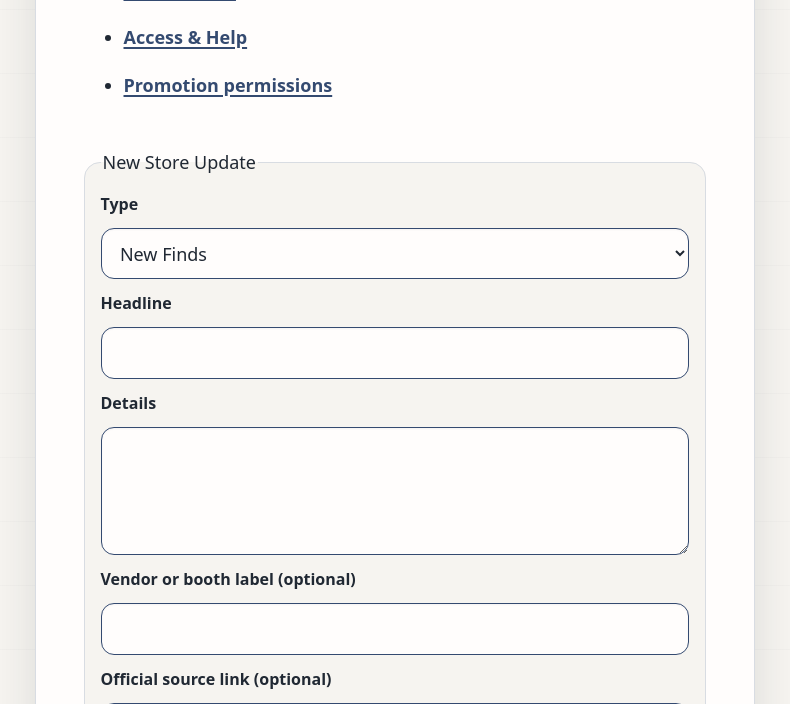
Test: provider-neutral Store Portal boundary › announces a successful text publish in the live region
(page scrolled)
Type "New finds this week" into the field labelled "Headline" at coordinates (394, 353), box [100,327,688,379]
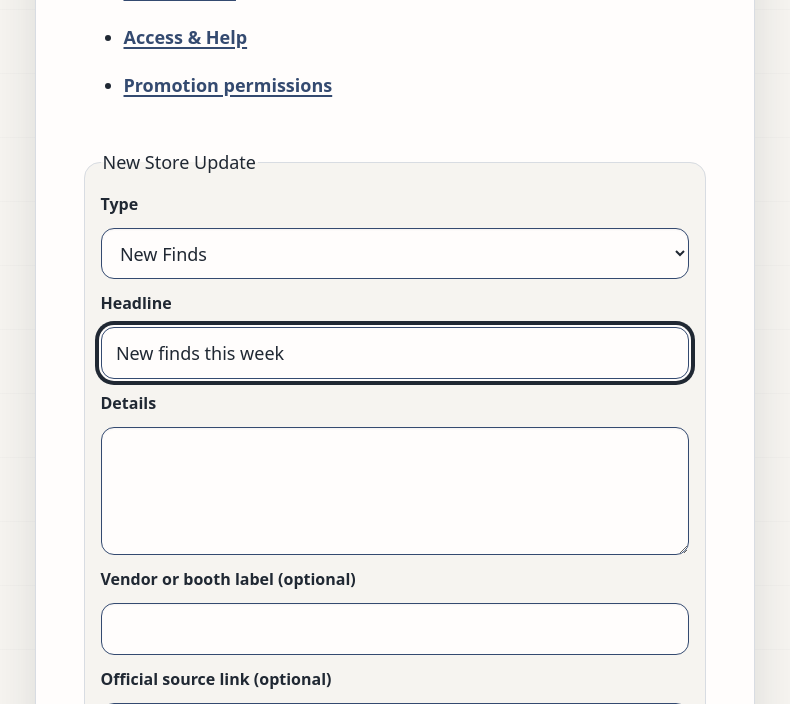
Type "Walnut tables arrived." into the text box labelled "Details" at coordinates (394, 491), box [100,427,688,555]
(page scrolled)
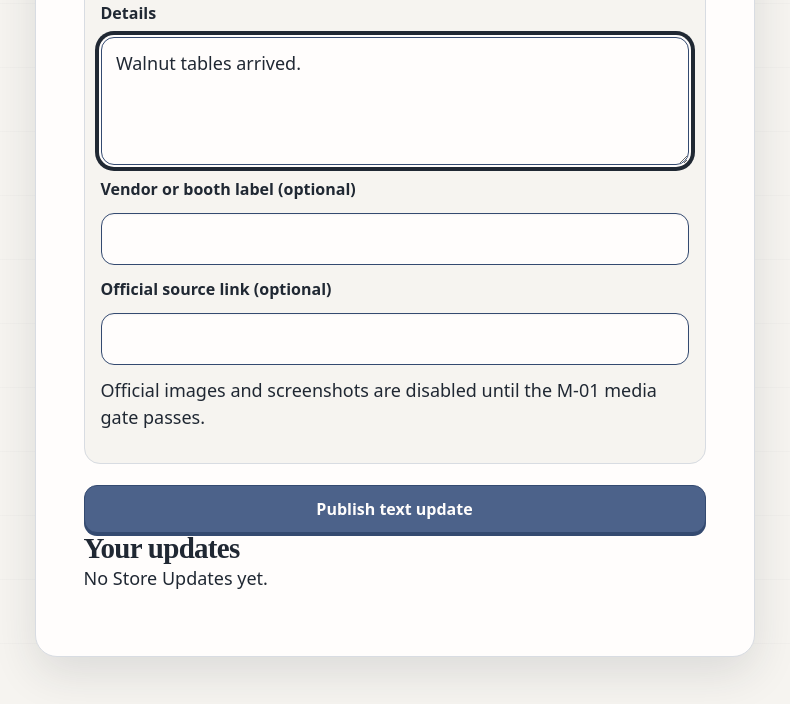
Click the button "Publish text update" at coordinates (394, 509), box [84,485,706,533]
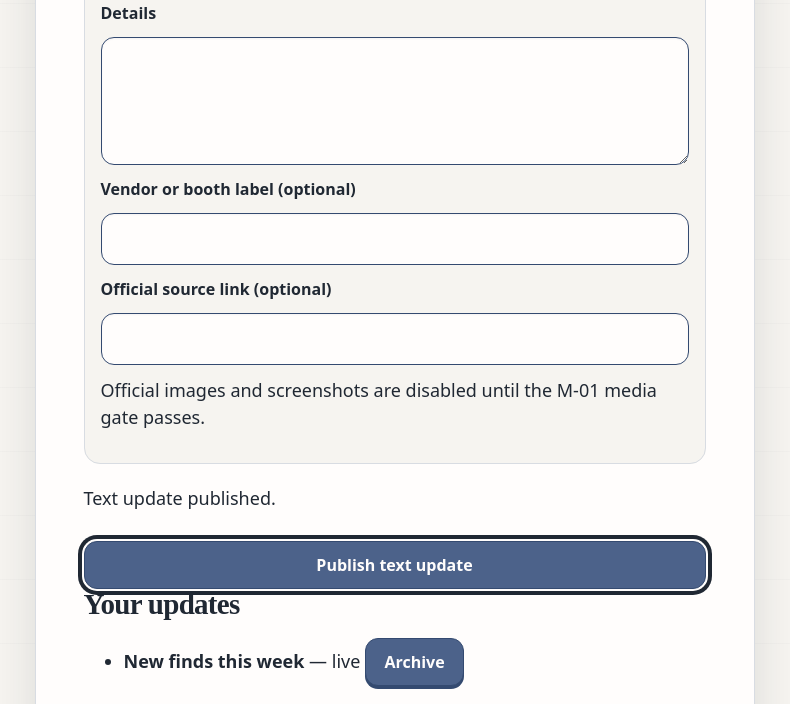
Check: the text "New finds this week" is shown, box [124,649,304,673]
